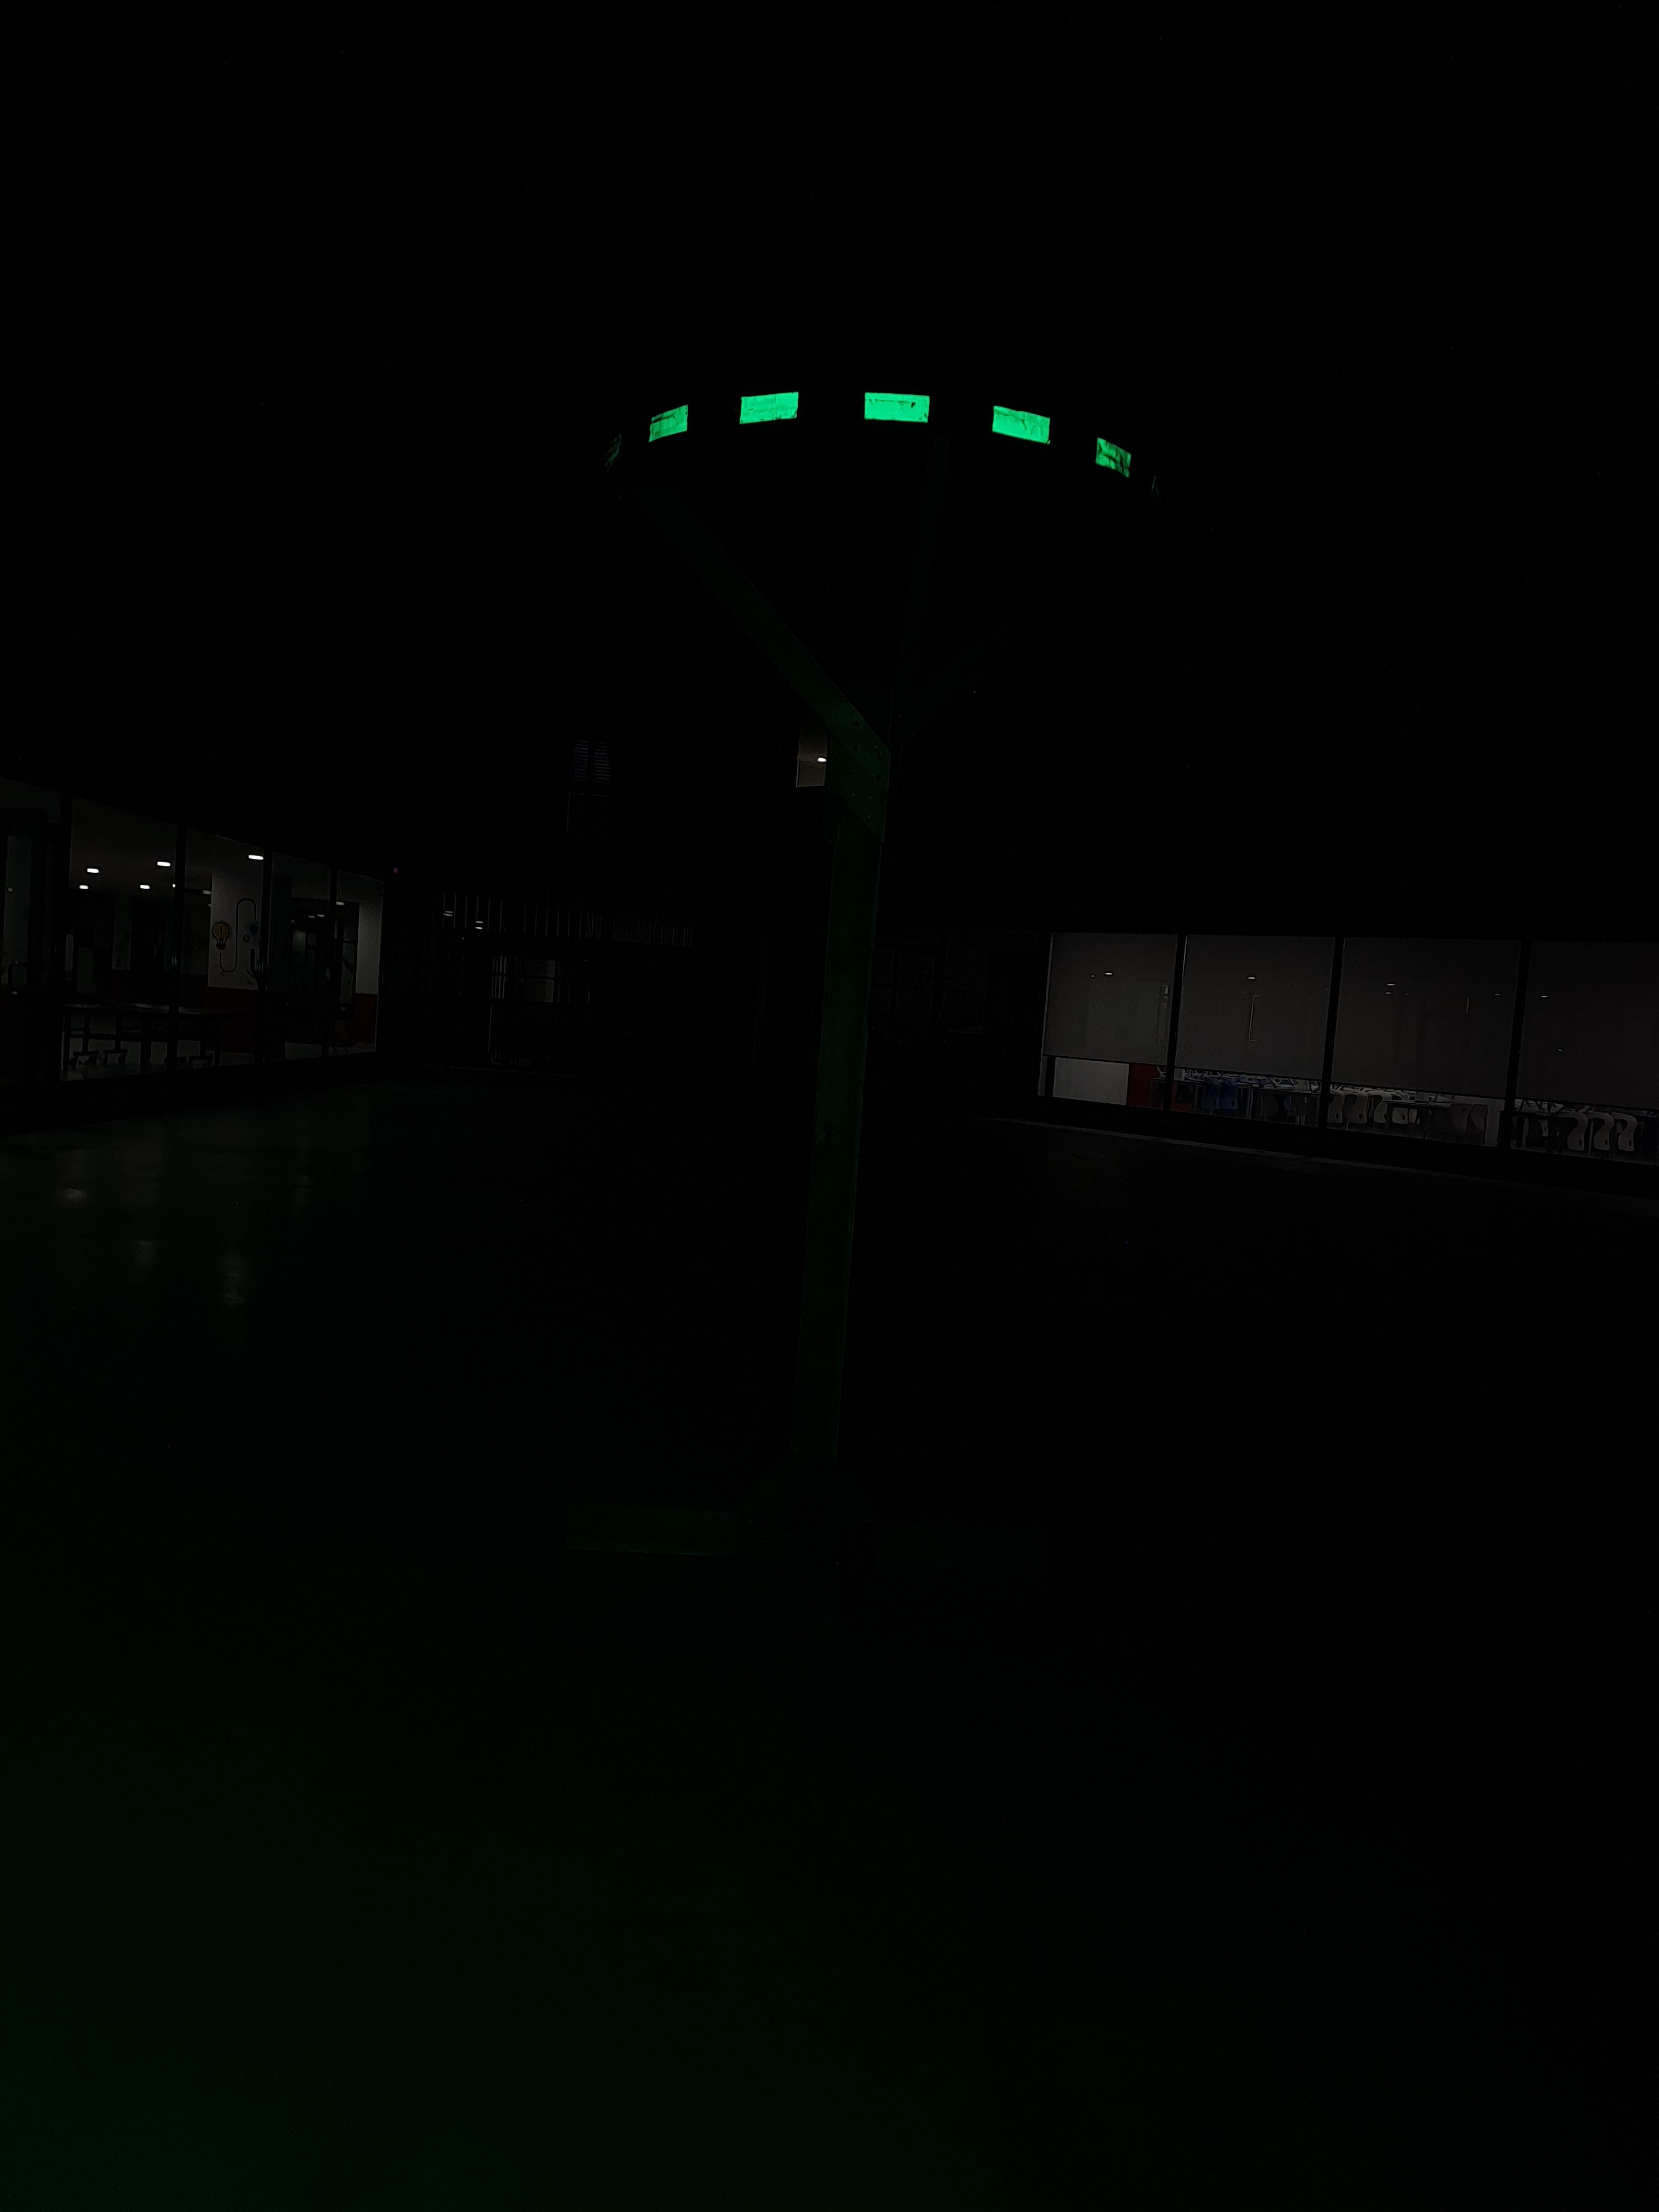hoop: (647, 381, 1138, 489)
